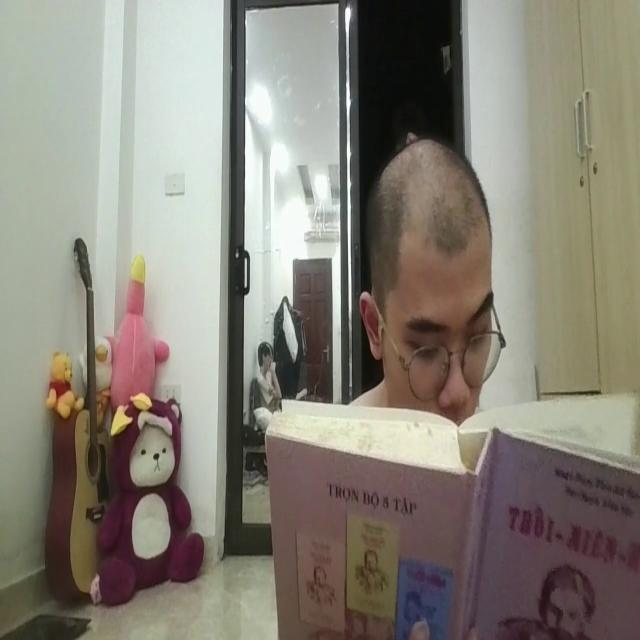book: (255, 388, 640, 639)
extra_person: (258, 331, 286, 407)
student: (355, 139, 498, 422)
